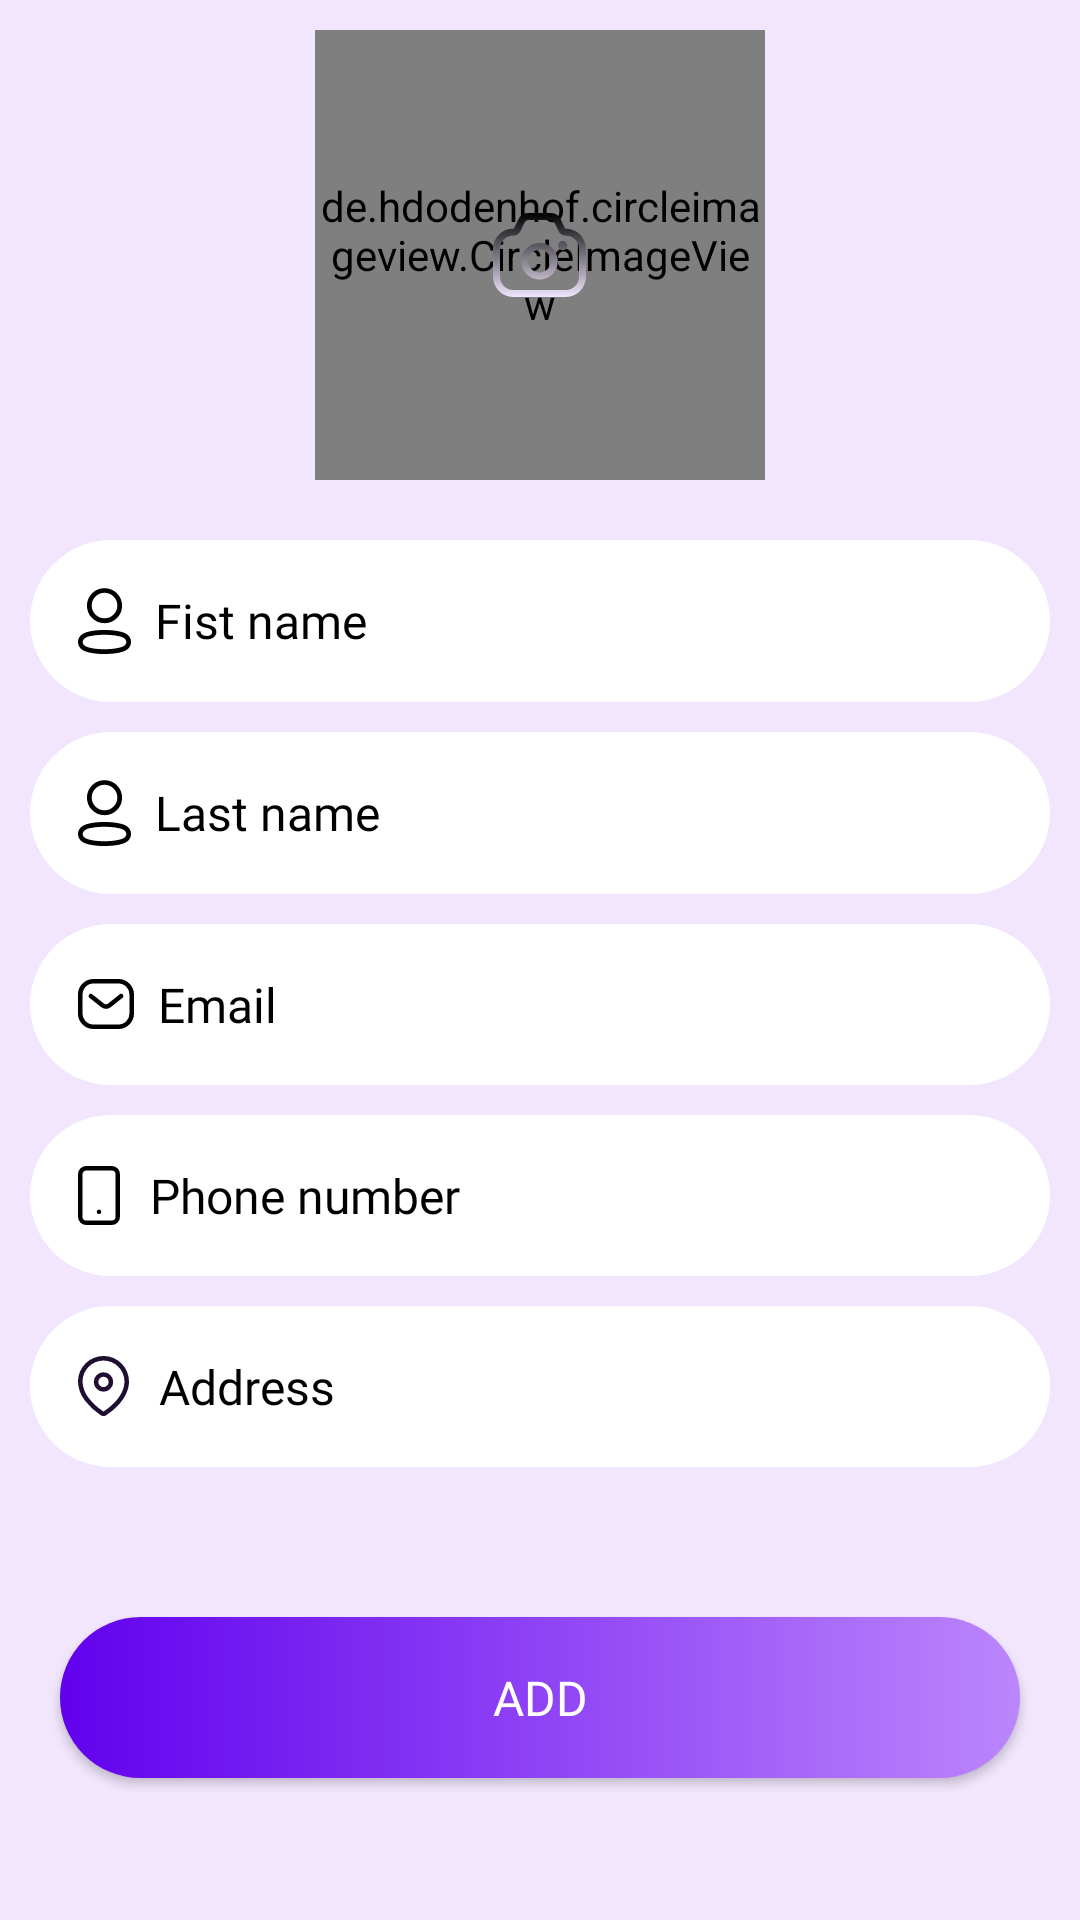

Screen size 1080x1920. Icon name, then its box in pixels as (x1,y1,x2,y2):
camera: (493,213,586,297)
